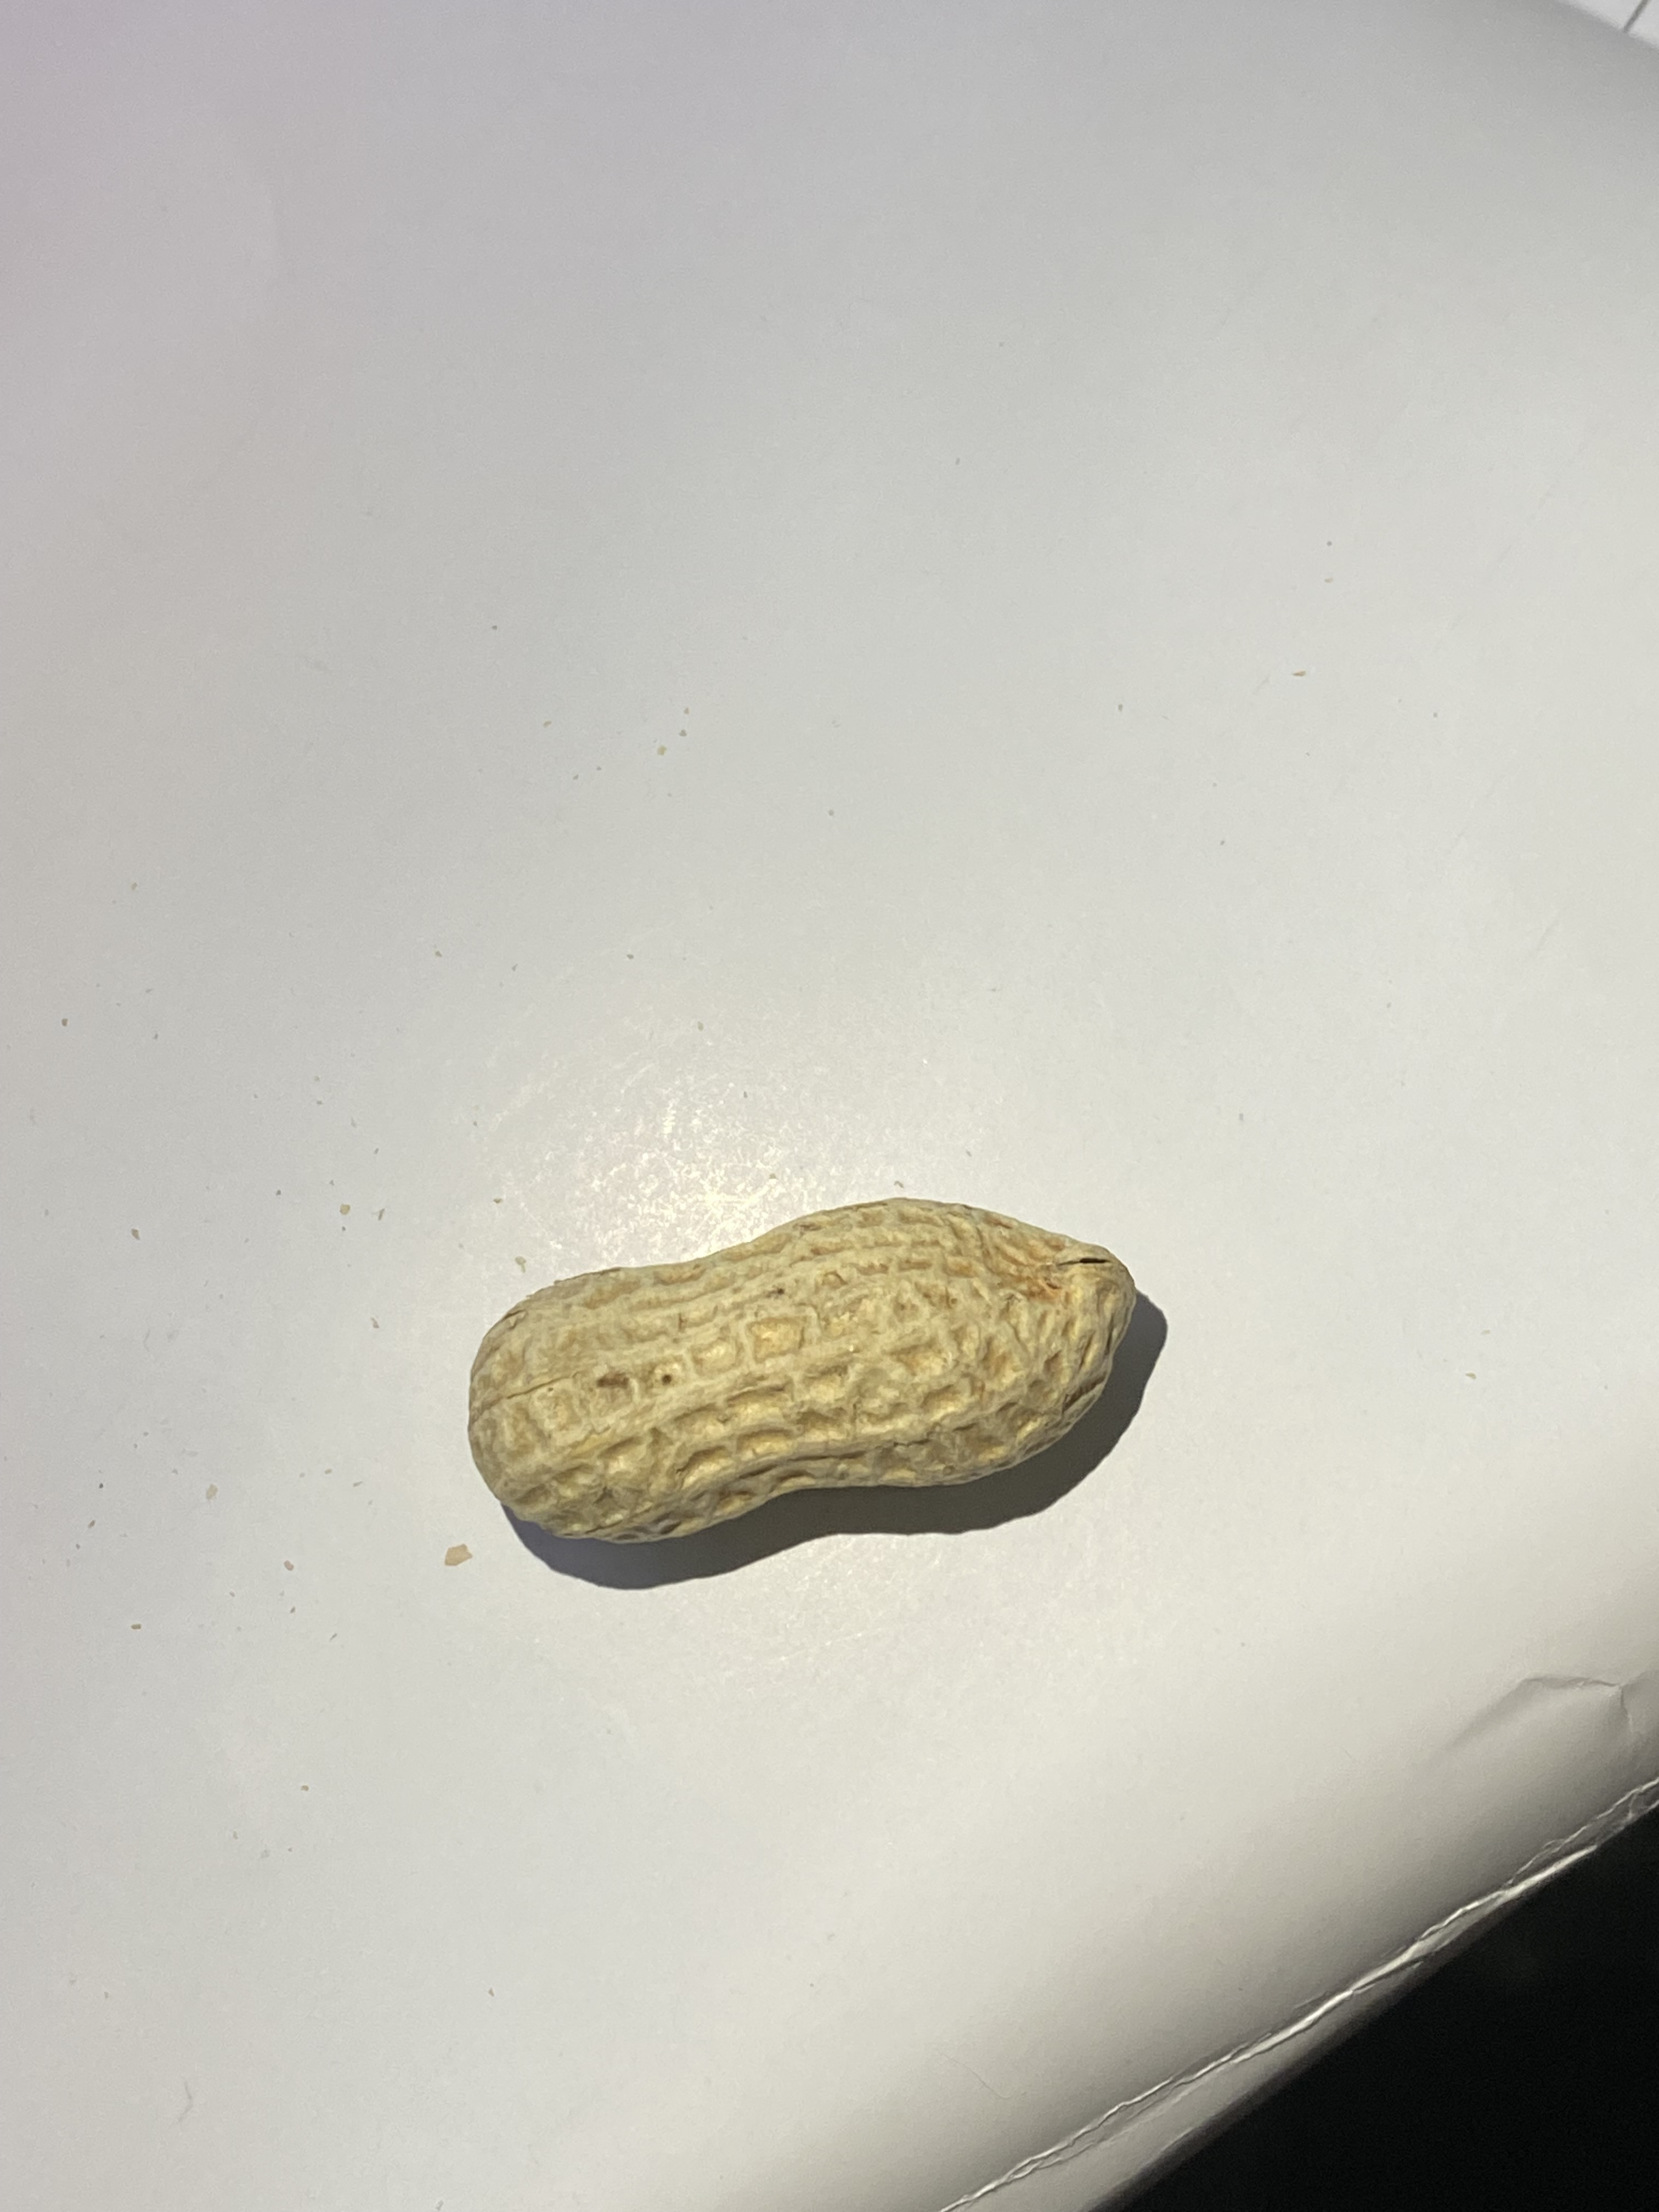kacang2: (439, 1153, 1164, 1587)
